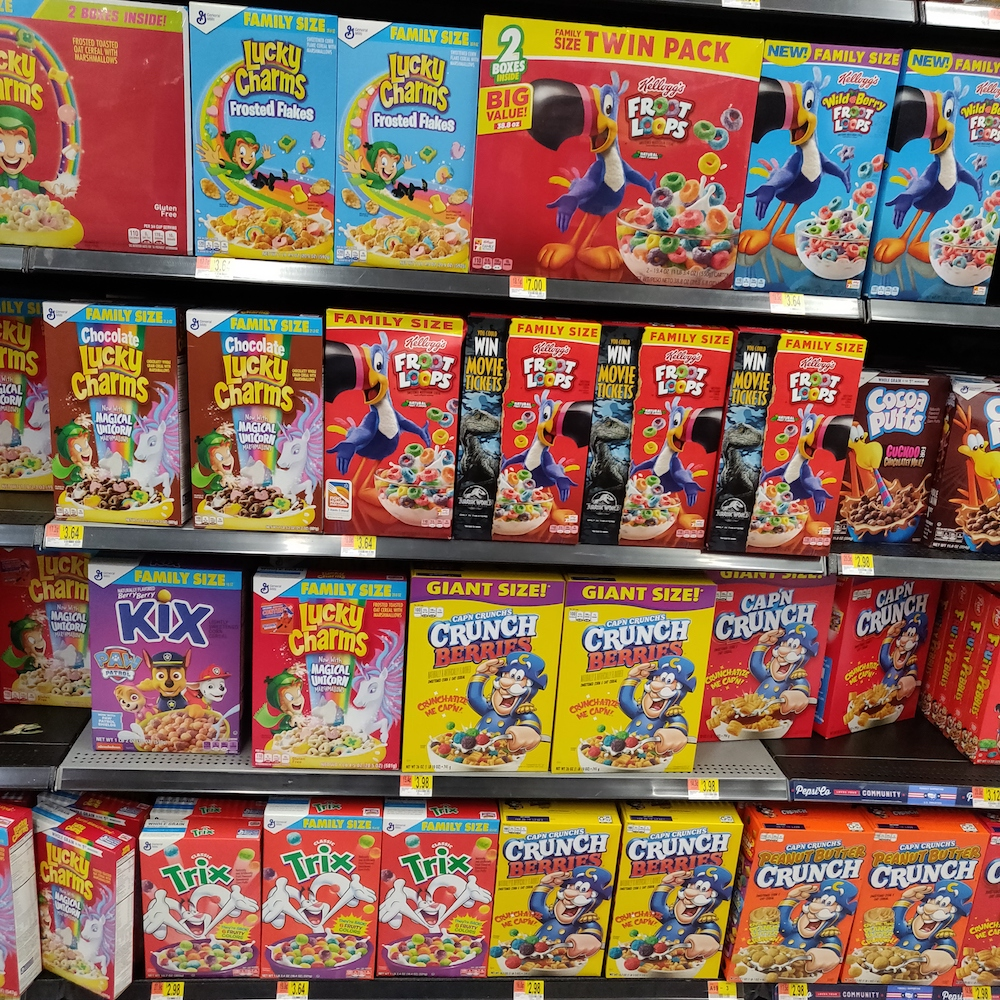Kix Berry -568919964: (85, 569, 239, 755)
